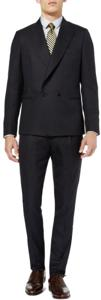F_M_suit jacket: (5, 20, 99, 136)
F_dress pants: (18, 125, 82, 276)
F_dress shoes: (50, 274, 74, 299), (24, 267, 46, 294)
F_tie: (44, 22, 57, 53)
